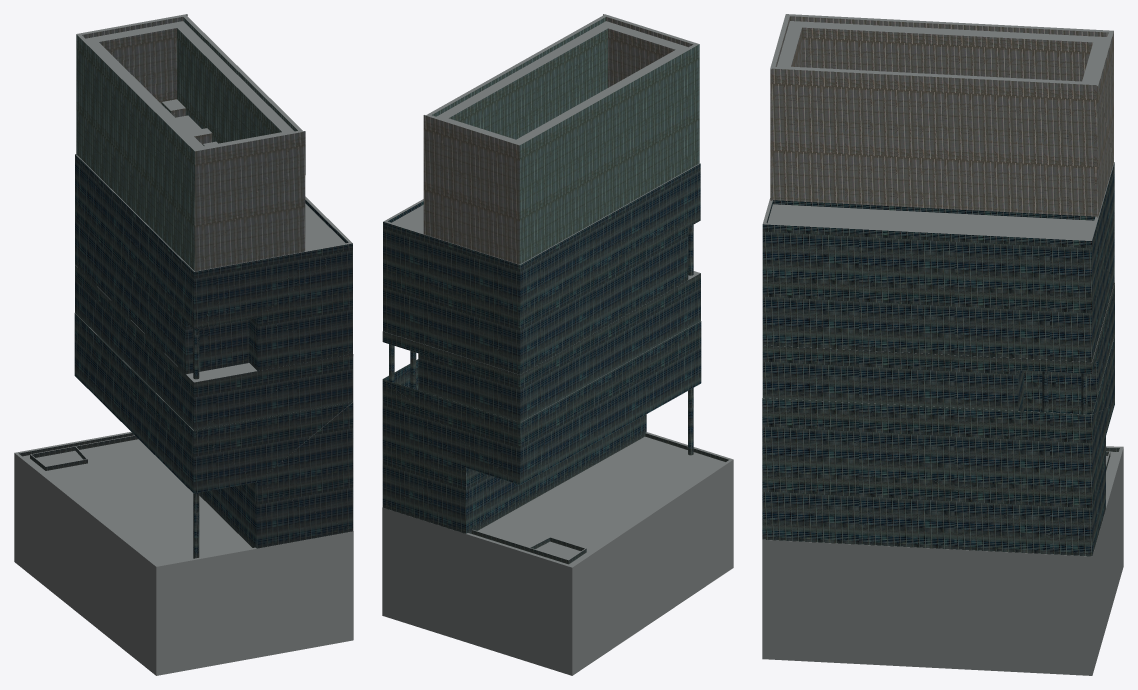
3 views of the same model, side by side, from view 1: azimuth 30°, elevation 25°; view 2: azimuth 150°, elevation 25°; view 3: azimuth 270°, elevation 25° (orthographic). The views are drawn at different scales.
Parts seen in each view (by area): view 1: ONE GEORGE STREET; view 2: ONE GEORGE STREET; view 3: ONE GEORGE STREET.
Boxes of the visible parts, box(x1,y1,x2,y2) form: ONE GEORGE STREET: box(14, 14, 353, 675); ONE GEORGE STREET: box(382, 14, 733, 675); ONE GEORGE STREET: box(762, 14, 1123, 675).
Bounding box in the file's own units: 62.94 × 144 × 83.35.
3 materials, 2 textured.
